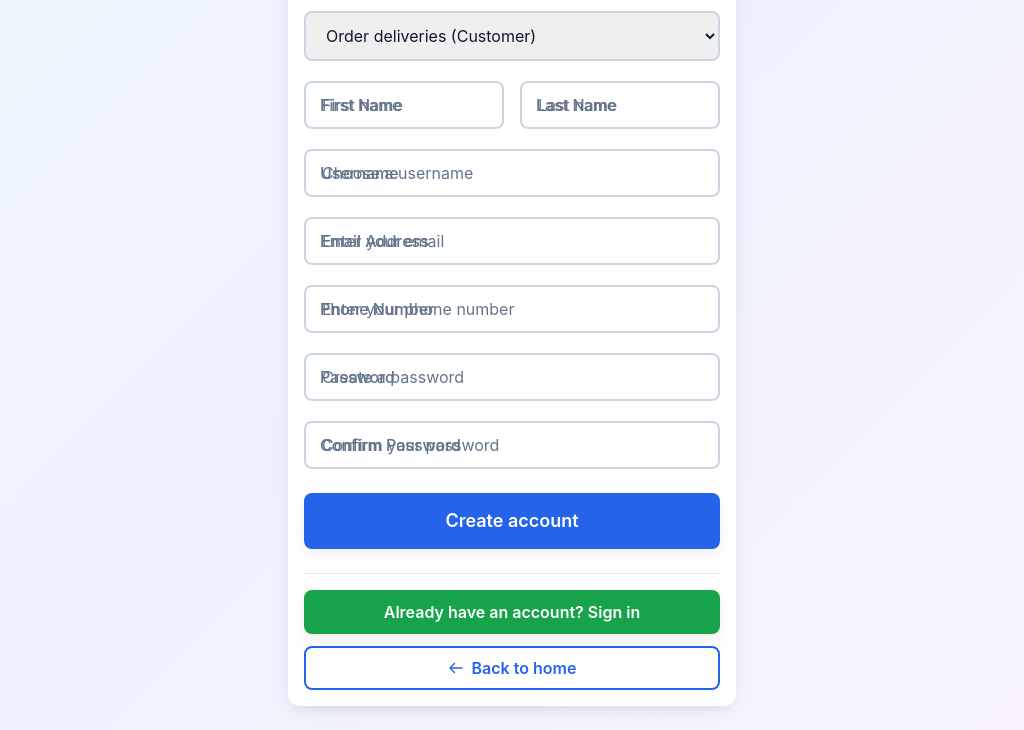
Test: Authentication Integration Tests › Authentication Flow Functionality › Registration Page › should handle registration validation errors
(page scrolled)
# Try to submit empty form
Click the button "Create account".
click(512, 520)  # box x1=304 y1=492 x2=720 y2=548
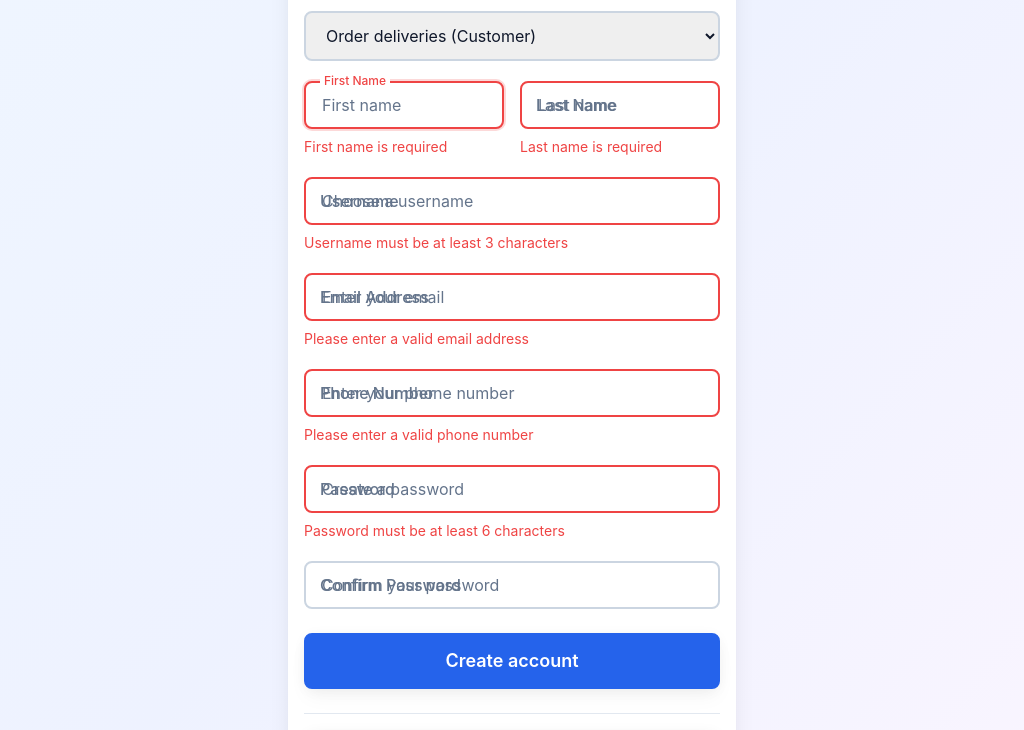
Now the text "First name is required" is shown, box x1=304 y1=138 x2=447 y2=154
Now the text "Last name is required" is shown, box x1=520 y1=138 x2=662 y2=154
Now the text "Username must be at least 3 characters" is shown, box x1=304 y1=234 x2=568 y2=250
